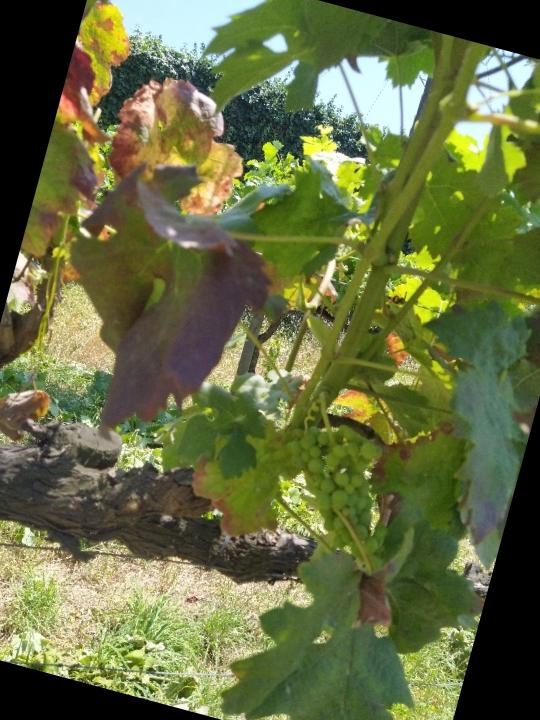grape: (258, 404, 401, 556)
